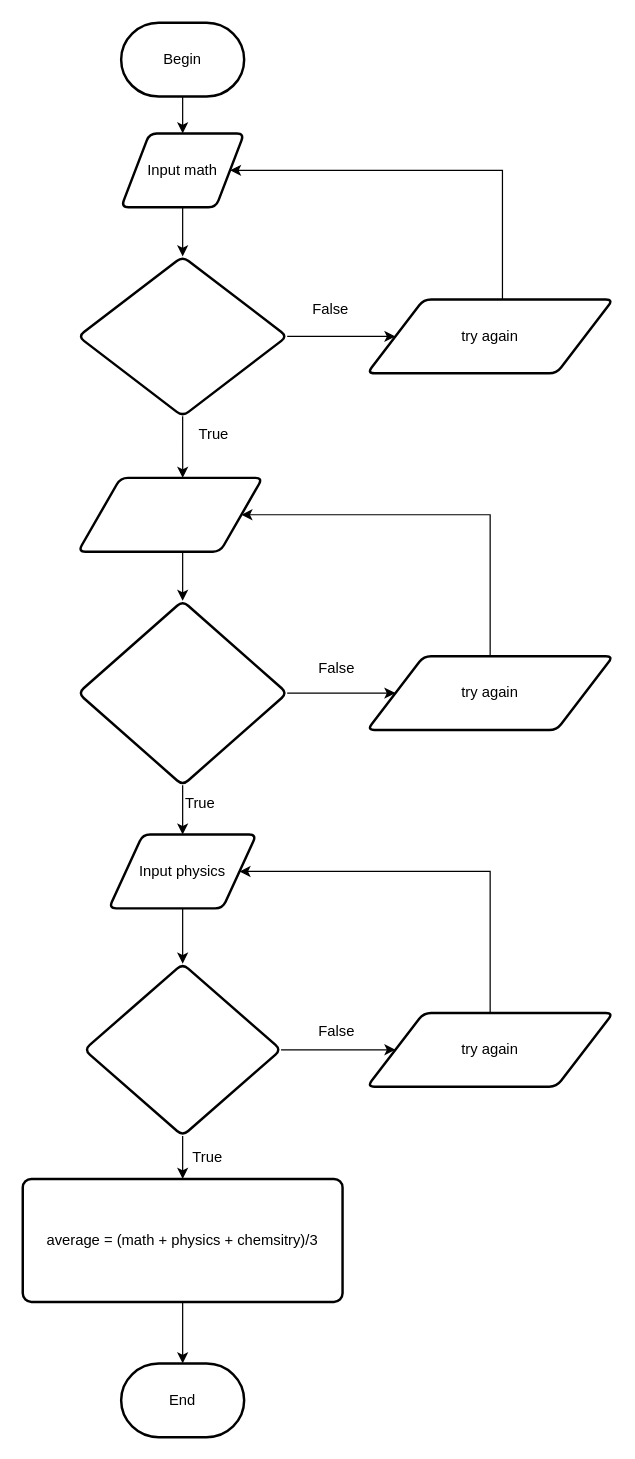
This 635x1459 diagram has some shape labels left out. The centre of each missing label's shape, as x and y in pixels:
"if chemistry >= 0 && chemistry <=10 && chemistry is a number" goes at pixel 182 692.
"if math >= 0 && math <=10 && math is a number" goes at pixel 182 336.
"if physics >= 0 && physics <=10 && physics is a number" goes at pixel 182 1049.
"Input chemistry" goes at pixel 169 514.
